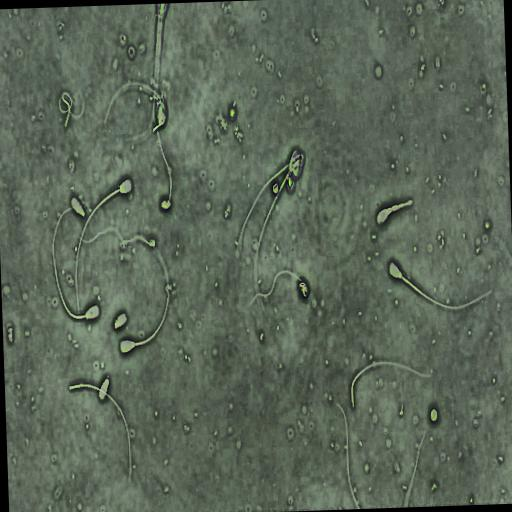coiled-tail: (376, 199, 411, 225)
dirt-particles: (428, 405, 439, 423), (298, 280, 308, 297), (272, 180, 280, 195)
loose-head: (70, 194, 85, 218), (97, 376, 110, 402), (113, 310, 127, 331)
loose-tail: (67, 380, 132, 484), (348, 358, 435, 410), (334, 399, 362, 508), (246, 266, 311, 311)
normal: (72, 171, 139, 313), (382, 249, 499, 318), (48, 200, 104, 328), (249, 146, 301, 271), (117, 248, 173, 358), (369, 184, 423, 235)
